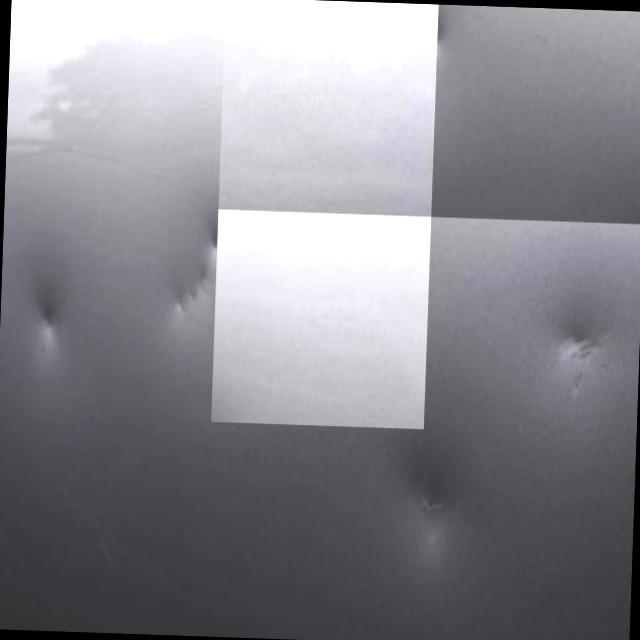dent: (138, 198, 243, 346), (18, 250, 78, 360), (408, 468, 462, 564), (569, 318, 606, 383)
